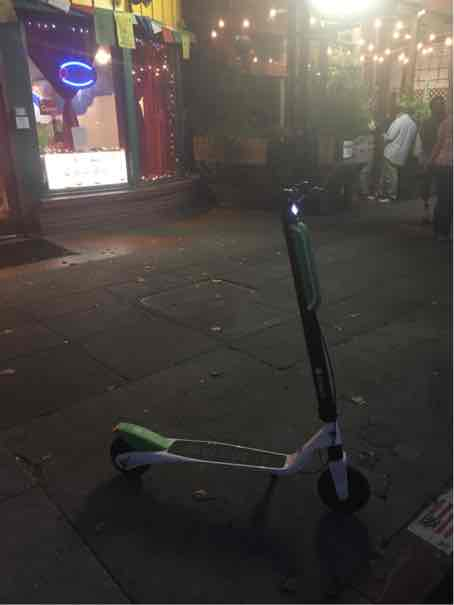scooter: (104, 176, 379, 526)
